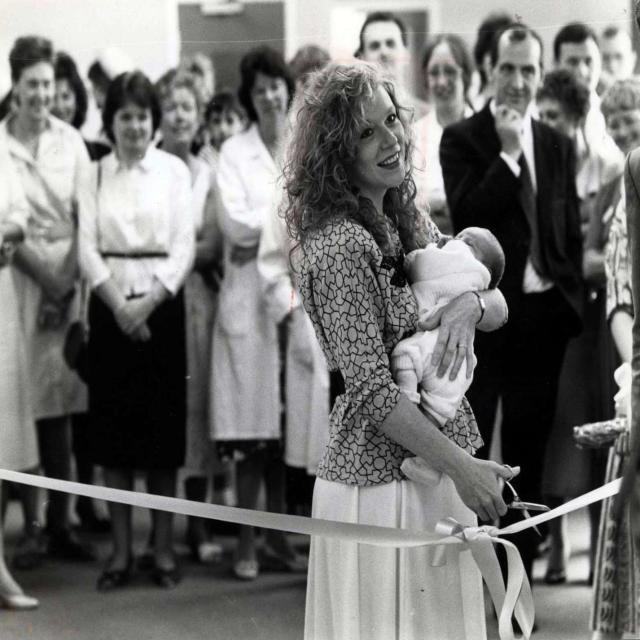body: (272, 61, 509, 640), (433, 23, 593, 639), (77, 66, 200, 595), (214, 49, 328, 576), (0, 30, 99, 570), (136, 68, 228, 572), (536, 69, 624, 588), (558, 23, 629, 573), (76, 53, 156, 527), (254, 160, 332, 584), (51, 47, 114, 534), (389, 225, 504, 486), (581, 82, 640, 517), (0, 42, 38, 616), (402, 34, 484, 235), (524, 21, 626, 168), (580, 80, 640, 275), (355, 9, 429, 120), (193, 93, 253, 167), (189, 42, 225, 99)
